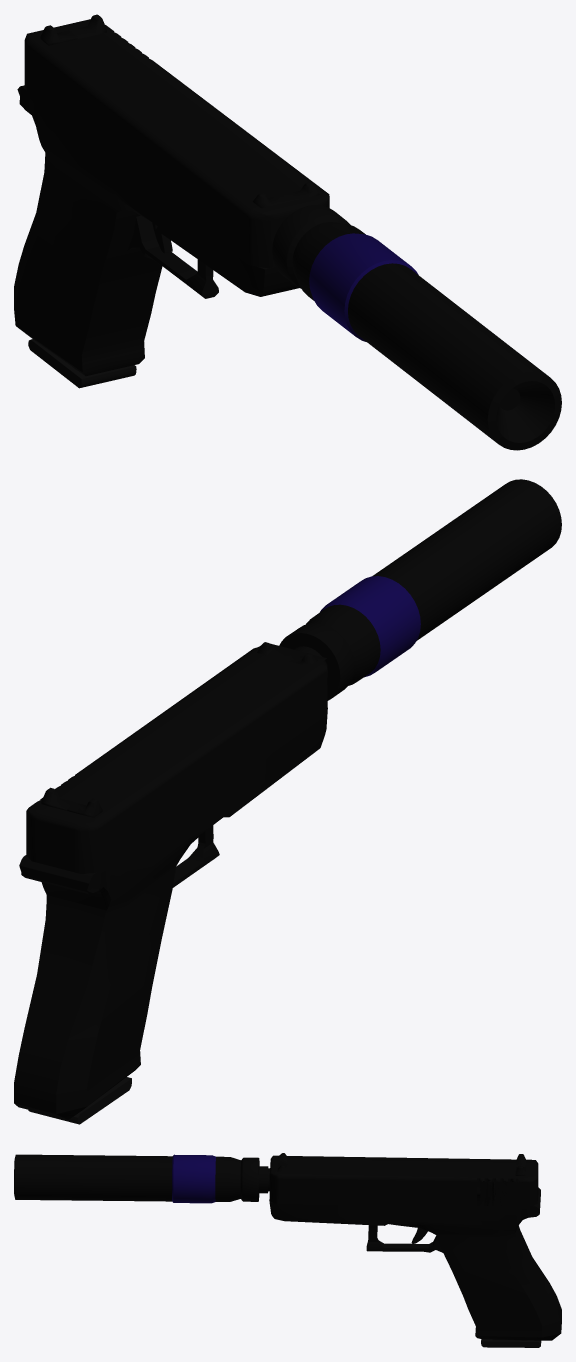
Rendered from pistola silenciada.fbx.
3 views of the same model, one above another, from view 1: azimuth 30°, elevation 25°; view 2: azimuth 150°, elevation 25°; view 3: azimuth 270°, elevation 25° (orthographic). The views are drawn at different scales.
Parts seen in each view (by area): view 1: Cylinder.001 (×3), Cylinder.002 (×2); view 2: Cylinder.001 (×3), Cylinder.002 (×2); view 3: Cylinder.001 (×3), Cylinder.002 (×2).
Boxes of the visible parts, <box> form: Cylinder.001 (×3): <box>14,14,329,388</box>; Cylinder.002 (×2): <box>272,205,561,450</box>; Cylinder.001 (×3): <box>14,642,327,1124</box>; Cylinder.002 (×2): <box>279,479,561,700</box>; Cylinder.001 (×3): <box>268,1153,561,1347</box>; Cylinder.002 (×2): <box>14,1154,267,1203</box>.
Bounding box in the file's own units: 94.48 × 317 × 874.
